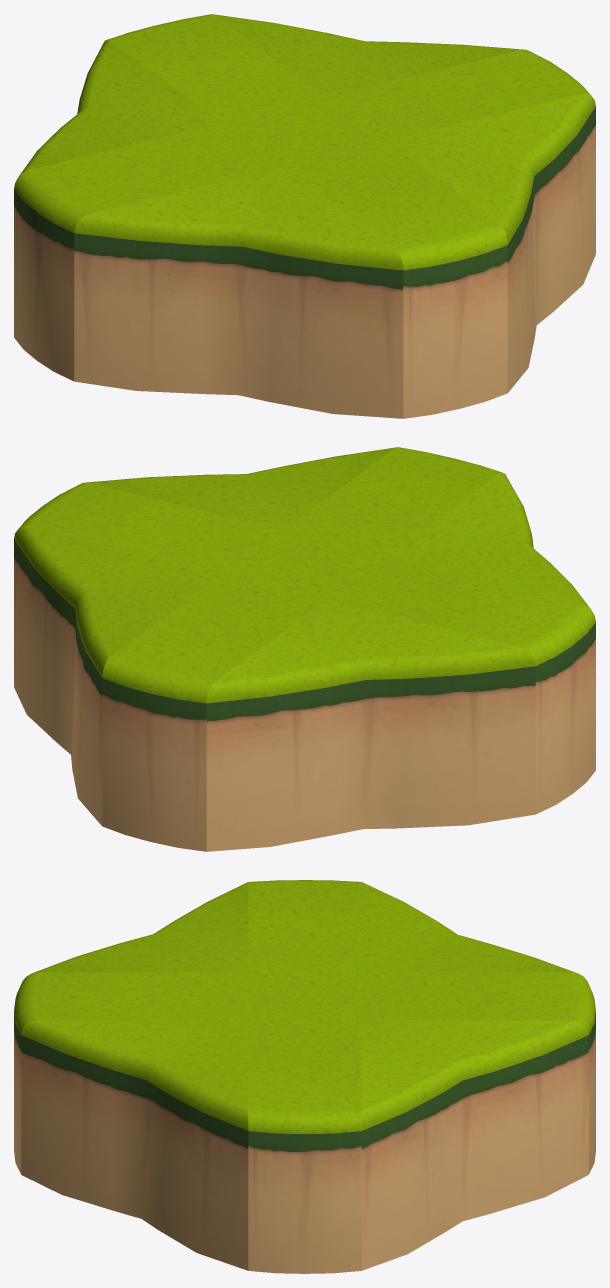
File: TM_concave.fbx
3 renders of one model, top to bottom at view 1: azimuth 30°, elevation 25°; view 2: azimuth 150°, elevation 25°; view 3: azimuth 270°, elevation 25°, orthographic. The views are drawn at different scales.
Visible parts, largest first — view 1: TM_Grass_Corner05.071, TM_Grass_Corner05.072, TM_Grass_BasicCube01.295, TM_Grass_BasicCube01.299, TM_Grass_Corner05.074, TM_Grass_Corner05.073, TM_Grass_BasicCube01.291, TM_Grass_BasicCube01.294, TM_Grass_BasicCube01.298, TM_Grass_BasicCube01.297, TM_Grass_BasicCube01.293, TM_Grass_BasicCube01.292 (+1 smaller); view 2: TM_Grass_Corner05.074, TM_Grass_Corner05.073, TM_Grass_BasicCube01.296, TM_Grass_BasicCube01.299, TM_Grass_Corner05.071, TM_Grass_Corner05.072, TM_Grass_BasicCube01.297, TM_Grass_BasicCube01.294, TM_Grass_BasicCube01.298, TM_Grass_BasicCube01.291, TM_Grass_BasicCube01.293, TM_Grass_BasicCube01.292 (+1 smaller); view 3: TM_Grass_Corner05.072, TM_Grass_Corner05.073, TM_Grass_BasicCube01.292, TM_Grass_Corner05.074, TM_Grass_Corner05.071, TM_Grass_BasicCube01.295, TM_Grass_BasicCube01.296, TM_Grass_BasicCube01.291, TM_Grass_BasicCube01.297, TM_Grass_BasicCube01.293, TM_Grass_BasicCube01.294, TM_Grass_BasicCube01.298 (+1 smaller).
Boxes of the visible parts, x1,y1,x2,y2 form: TM_Grass_Corner05.071: (74, 167, 403, 418); TM_Grass_Corner05.072: (387, 94, 595, 392); TM_Grass_BasicCube01.295: (343, 185, 507, 418); TM_Grass_BasicCube01.299: (14, 148, 177, 381); TM_Grass_Corner05.074: (19, 39, 222, 175); TM_Grass_Corner05.073: (213, 14, 524, 97); TM_Grass_BasicCube01.291: (283, 141, 447, 210); TM_Grass_BasicCube01.294: (327, 72, 490, 141); TM_Grass_BasicCube01.298: (118, 123, 282, 192); TM_Grass_BasicCube01.297: (163, 53, 326, 122); TM_Grass_BasicCube01.293: (223, 97, 386, 166); TM_Grass_BasicCube01.292: (431, 49, 591, 115); TM_Grass_Corner05.074: (206, 600, 535, 851); TM_Grass_Corner05.073: (14, 527, 222, 825); TM_Grass_BasicCube01.296: (102, 618, 266, 851); TM_Grass_BasicCube01.299: (432, 581, 595, 814); TM_Grass_Corner05.071: (387, 472, 590, 608); TM_Grass_Corner05.072: (85, 447, 396, 530); TM_Grass_BasicCube01.297: (162, 574, 326, 643); TM_Grass_BasicCube01.294: (119, 505, 282, 574); TM_Grass_BasicCube01.298: (327, 556, 491, 625); TM_Grass_BasicCube01.291: (283, 486, 446, 555); TM_Grass_BasicCube01.293: (223, 530, 386, 599); TM_Grass_BasicCube01.292: (18, 482, 178, 548); TM_Grass_Corner05.072: (21, 1020, 248, 1270); TM_Grass_Corner05.073: (361, 1020, 588, 1270); TM_Grass_BasicCube01.292: (248, 1068, 361, 1273); TM_Grass_Corner05.074: (361, 882, 577, 973); TM_Grass_Corner05.071: (32, 882, 248, 973); TM_Grass_BasicCube01.295: (14, 972, 134, 1174); TM_Grass_BasicCube01.296: (475, 972, 595, 1174); TM_Grass_BasicCube01.291: (134, 972, 248, 1020); TM_Grass_BasicCube01.297: (361, 972, 475, 1020); TM_Grass_BasicCube01.293: (248, 972, 361, 1020); TM_Grass_BasicCube01.294: (248, 1020, 361, 1068); TM_Grass_BasicCube01.298: (248, 924, 361, 972).
Size of the model in its own units: 20.51 by 6.05 by 20.51.
